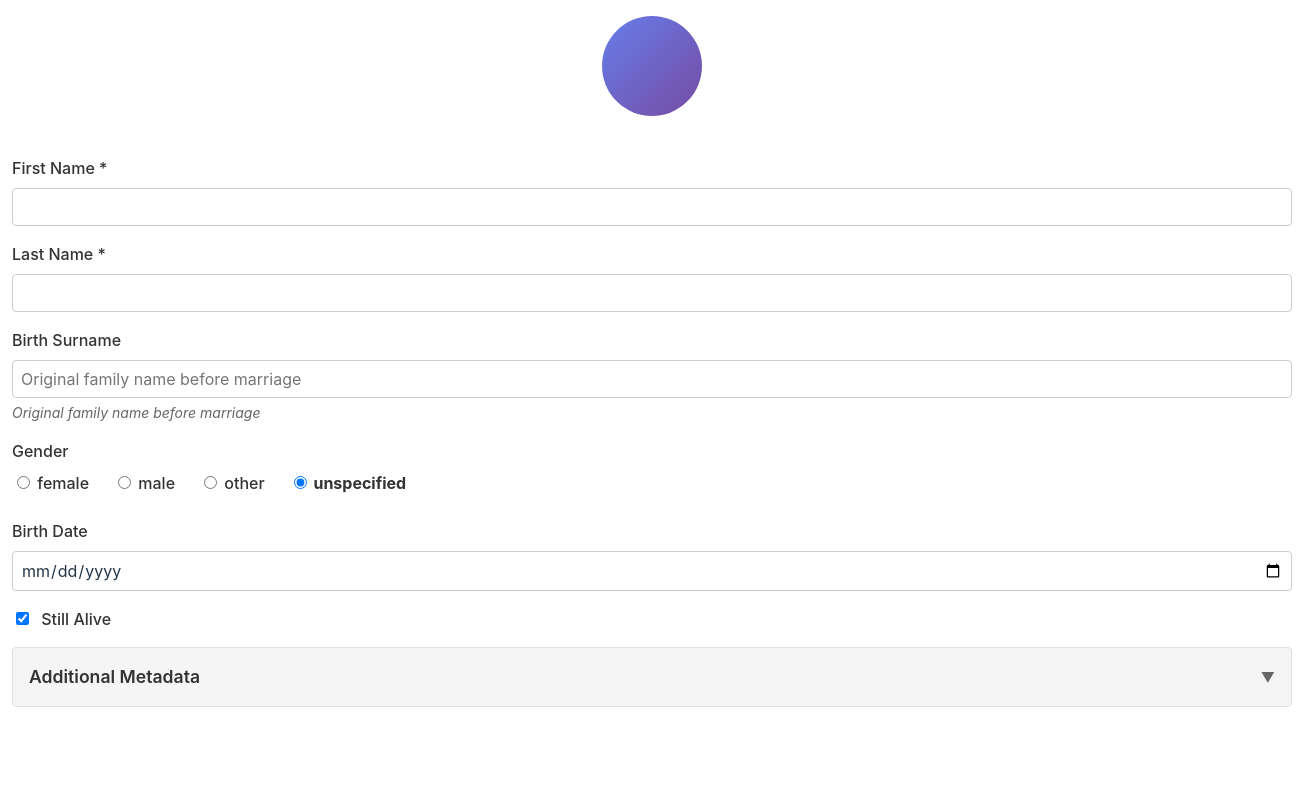
Scenario: PersonFormFields - Photo Preview Integration › Photo URL field › should have photoUrl input field in Additional Metadata section
Click the button with class "section-header": (115,676) x1=12 y1=647 x2=1292 y2=707
(page scrolled)
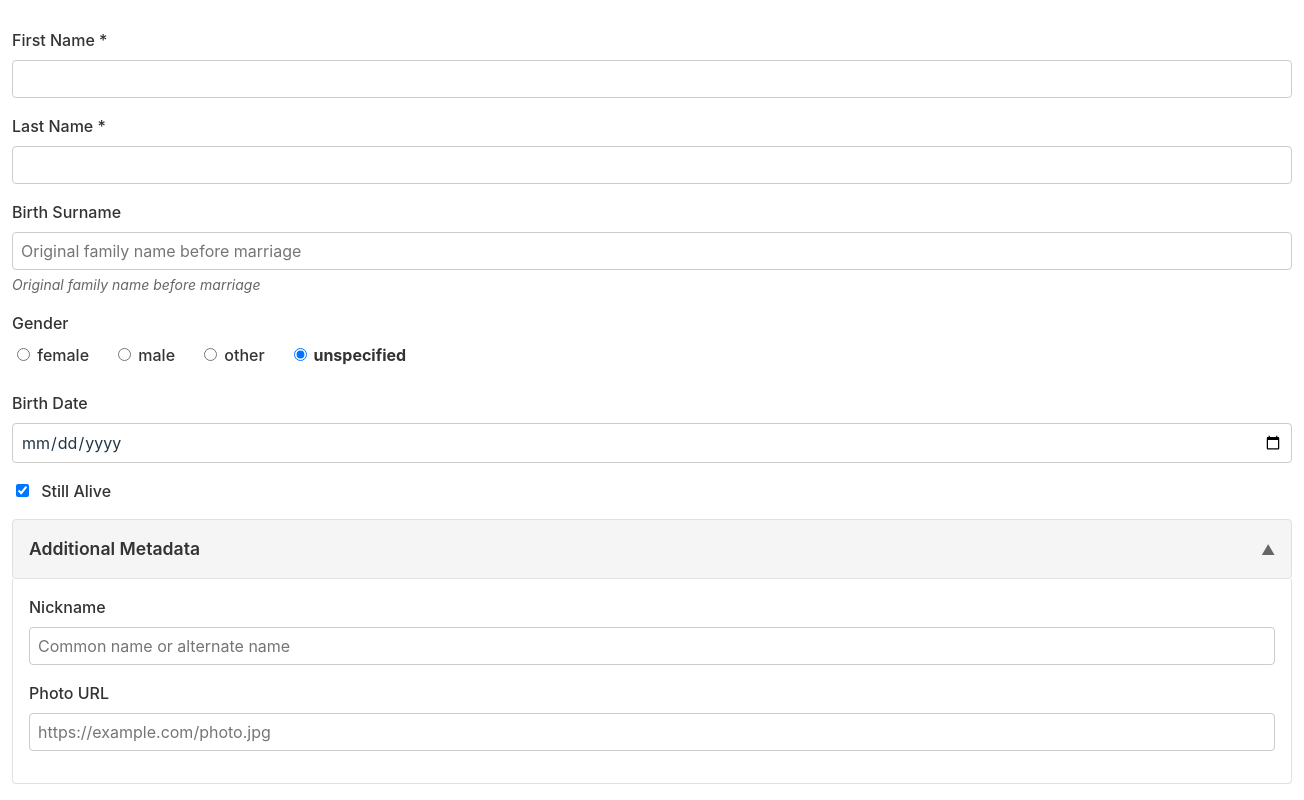
Expected: the field labelled "Photo URL" is shown, x1=29 y1=713 x2=1275 y2=751
